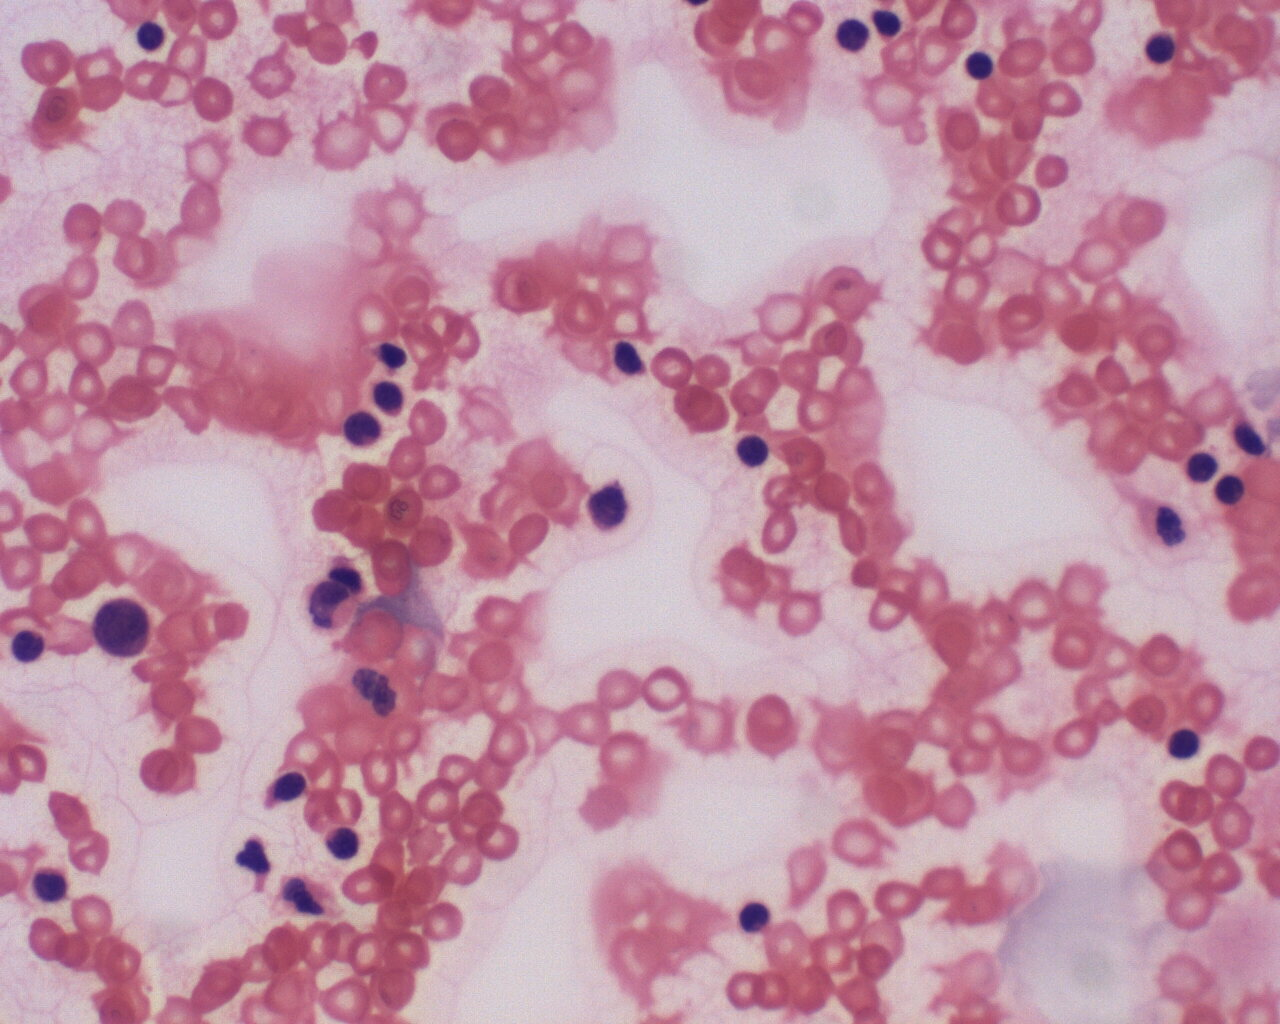ab: (90, 598, 156, 666)
lymph: (727, 426, 785, 474), (736, 890, 781, 942), (1161, 721, 1210, 764), (1139, 29, 1187, 72), (320, 822, 364, 863), (1186, 447, 1226, 488), (959, 47, 999, 87), (130, 17, 170, 55)
neutro: (338, 408, 387, 451)
